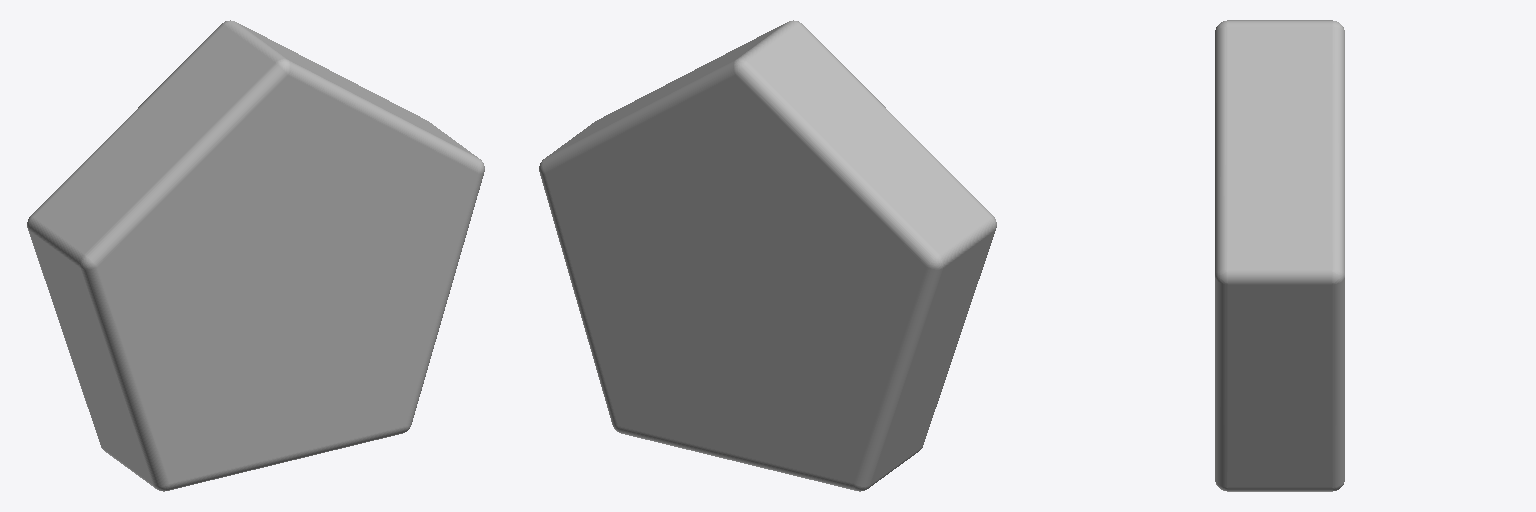
robot.urdf — root:
<robot name="root">
  <link name="link_pentagram_stout_convex_piece_0">
    <inertial>
      <origin xyz="0 0 0" rpy="0 0 0"/>
      <mass value="2.69E-01"/>
      <inertia ixx="2.49E-04" ixy="-4.34E-11" ixz="1.31E-11" iyy="4.46E-04" iyz="5.31E-11" izz="2.49E-04"/>
    </inertial>
    <visual>
      <origin xyz="0 0 0" rpy="0 0 0"/>
      <geometry>
        <mesh filename="pentagram_stout_convex_piece_0.obj" scale="1.0000E+00 1.0000E+00 1.0000E+00"/>
      </geometry>
      <material name="">
        <color rgba="7.50E-01 7.50E-01 7.50E-01 1"/>
      </material>
    </visual>
    <collision>
      <origin xyz="0 0 0" rpy="0 0 0"/>
      <geometry>
        <mesh filename="pentagram_stout_convex_piece_0.obj" scale="1.0000E+00 1.0000E+00 1.0000E+00"/>
      </geometry>
    </collision>
  </link>
</robot>

--- Render facts (derived) ---
Views: 3 orthographic renders of the robot side by side, from view 1: azimuth 30°, elevation 25°; view 2: azimuth 150°, elevation 25°; view 3: azimuth 270°, elevation 25°.
Robot: root — 1 links, 0 joints (none); root link link_pentagram_stout_convex_piece_0; default pose: all joints at 0.
Links seen in each view (by area): view 1: link_pentagram_stout_convex_piece_0; view 2: link_pentagram_stout_convex_piece_0; view 3: link_pentagram_stout_convex_piece_0.
Boxes of the visible links, x1,y1,x2,y2 form: link_pentagram_stout_convex_piece_0: (27,20,484,491); link_pentagram_stout_convex_piece_0: (539,20,996,491); link_pentagram_stout_convex_piece_0: (1215,20,1344,491).
Bounding box of the posed robot: 0.1241 × 0.034 × 0.1184 m (x, y, z).
1 mesh visuals loaded from 1 distinct referenced files (1 OBJ).
